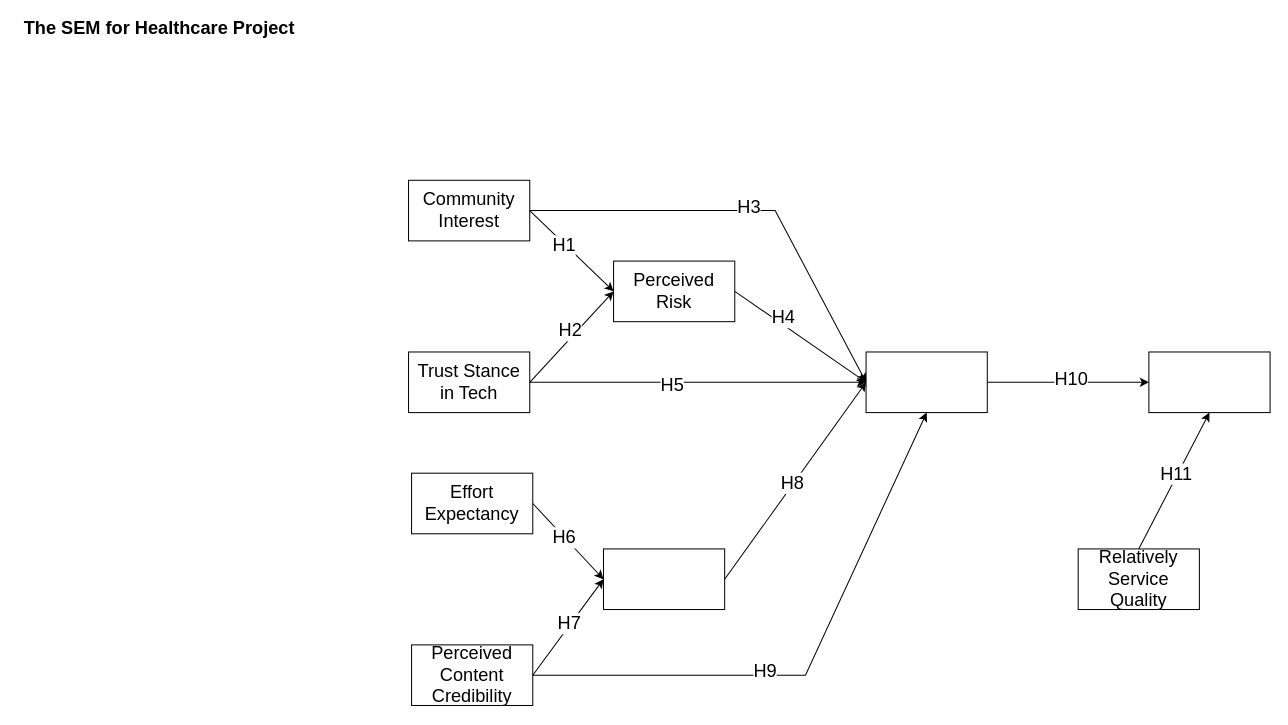
This 1288x725 diagram has some shape labels left out. The centre of each missing label's shape, as x and y in pixels:
Perceived Usefulness: pixel 663 579
Substitution Risk: pixel 1209 382
Trust in HAI: pixel 926 382
